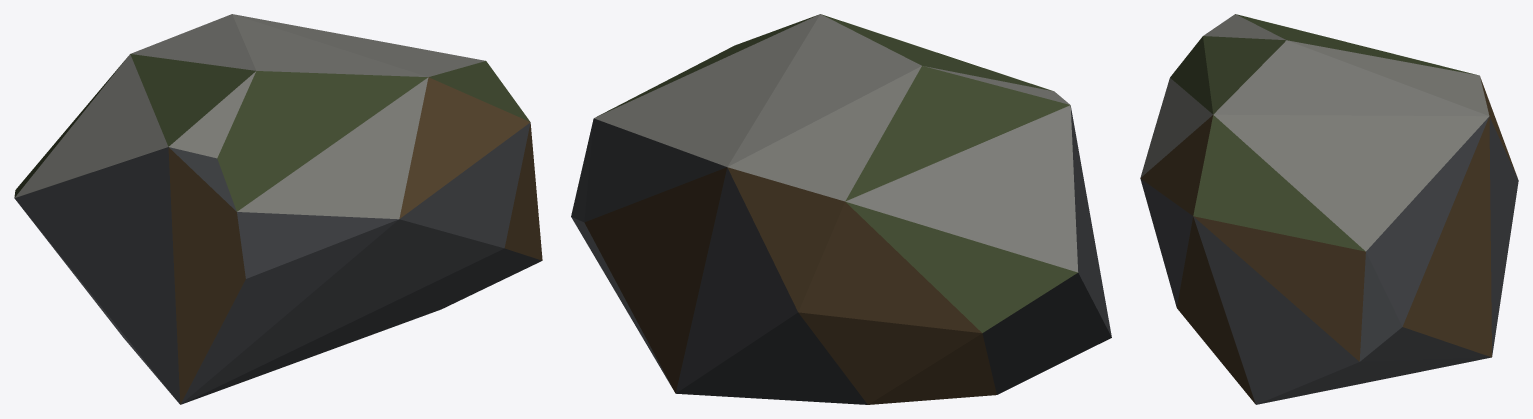
Rendered from hushwood_rock_mossy.glb.
3 views of the same model, side by side, from view 1: azimuth 30°, elevation 25°; view 2: azimuth 150°, elevation 25°; view 3: azimuth 270°, elevation 25° (orthographic). The views are drawn at different scales.
Visible parts, largest first — view 1: hushwood_rock_mossy; view 2: hushwood_rock_mossy; view 3: hushwood_rock_mossy.
Boxes of the visible parts, x1,y1,x2,y2 form: hushwood_rock_mossy: (14,14,542,404); hushwood_rock_mossy: (571,14,1111,404); hushwood_rock_mossy: (1140,14,1518,404).
Bounding box in the file's own units: 1.77 × 0.9106 × 1.22.
